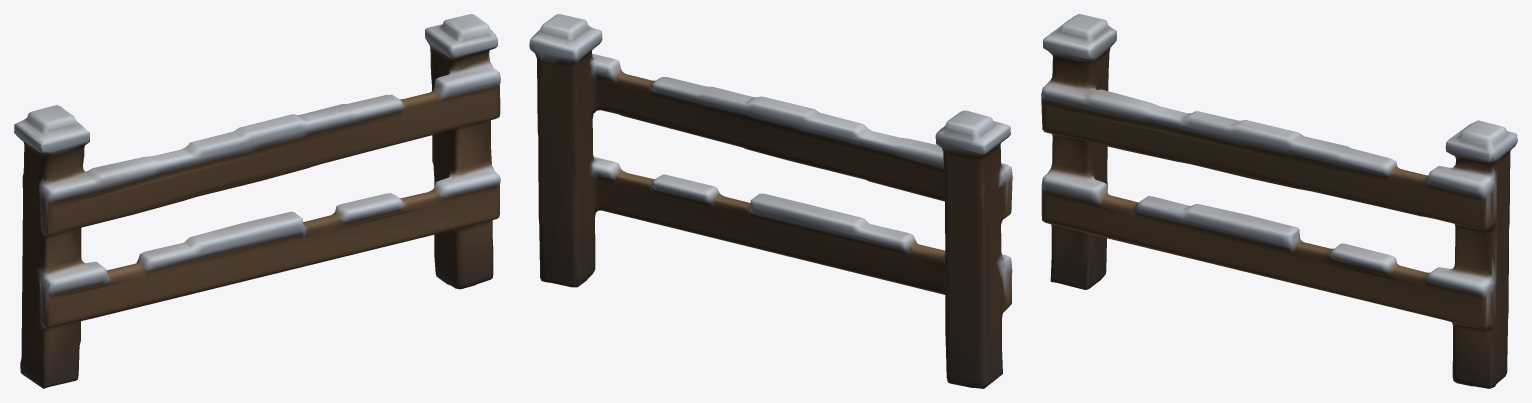
Rendered from SM_StylizedFence_Snow.fbx.
3 renders of one model, left to right at view 1: azimuth 30°, elevation 25°; view 2: azimuth 150°, elevation 25°; view 3: azimuth 330°, elevation 25°, orthographic.
Parts seen in each view (by area): view 1: SM_StylizedFence_Snow; view 2: SM_StylizedFence_Snow; view 3: SM_StylizedFence_Snow.
Boxes of the visible parts, bbox=[...] form: SM_StylizedFence_Snow: bbox=[14, 14, 500, 388]; SM_StylizedFence_Snow: bbox=[529, 14, 1012, 388]; SM_StylizedFence_Snow: bbox=[1041, 14, 1517, 388].
Size of what is drawn, in the model's own units: 2.24 by 1.23 by 0.2937.
